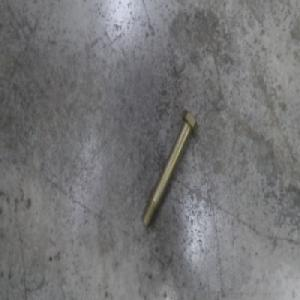Bolt: (141, 107, 198, 229)
